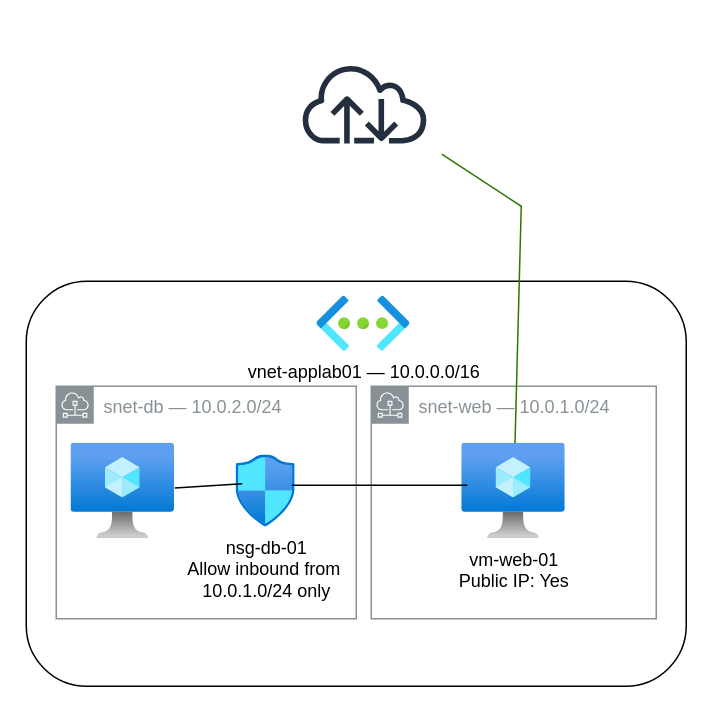
The diagram is 713 pixels wide and 713 high, and some of its shapes have lost their labels. Here are the shapes that lost their labels. From the top down, the centre of each, then its label:
the point at 364,103: Internet
the point at 122,490: vm-db-01 No Public IP
